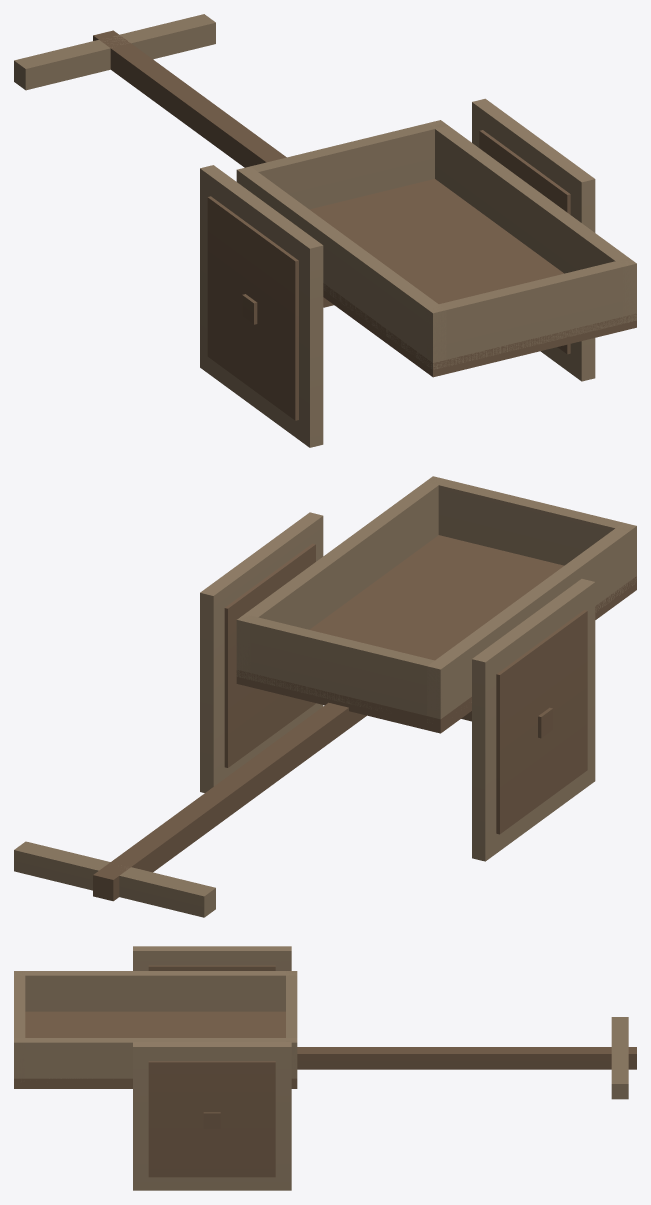
Rendered from roteh-koh.glb.
3 renders of one model, top to bottom at view 1: azimuth 30°, elevation 25°; view 2: azimuth 150°, elevation 25°; view 3: azimuth 270°, elevation 25°, orthographic. The views are drawn at different scales.
Size of the model in its own units: 1.32 by 0.84 by 3.3.
